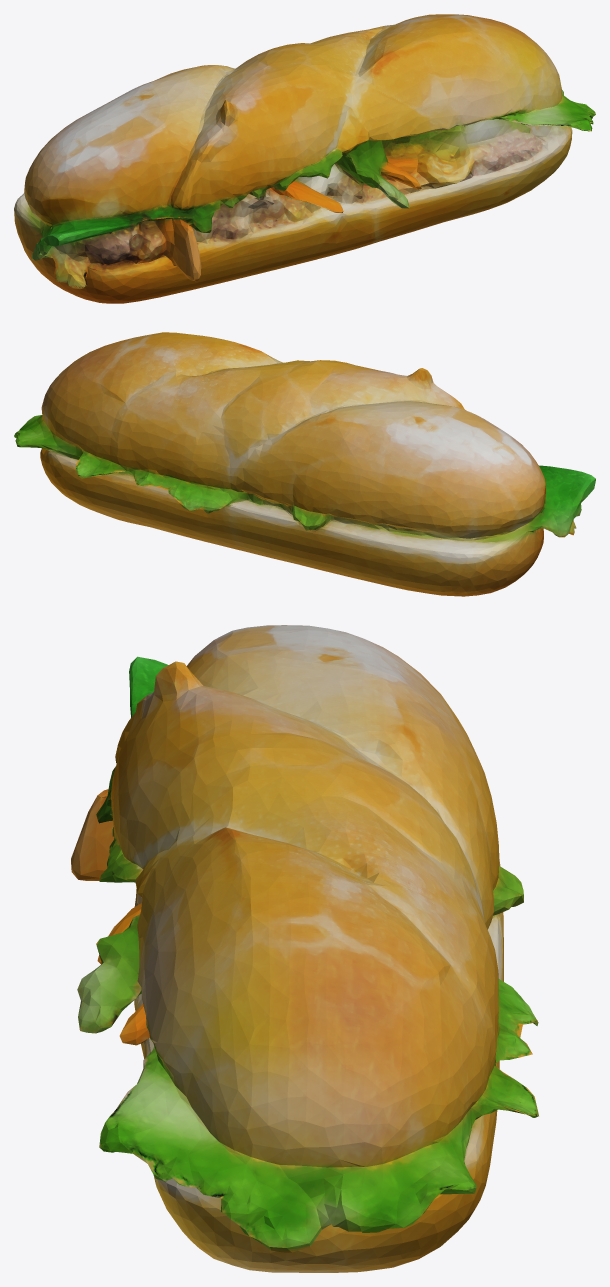
Rendered from banhmi_pate.glb.
3 views of the same model, one above another, from view 1: azimuth 30°, elevation 25°; view 2: azimuth 150°, elevation 25°; view 3: azimuth 270°, elevation 25° (orthographic). The views are drawn at different scales.
Visible parts, largest first — view 1: world; view 2: world; view 3: world.
Boxes of the visible parts, box(x1,y1,x2,y2) form: world: box(14, 14, 595, 303); world: box(14, 332, 595, 596); world: box(71, 625, 538, 1272).
Size of the model in its own units: 0.9983 by 0.3157 by 0.3922.
1 material, 1 textured.
